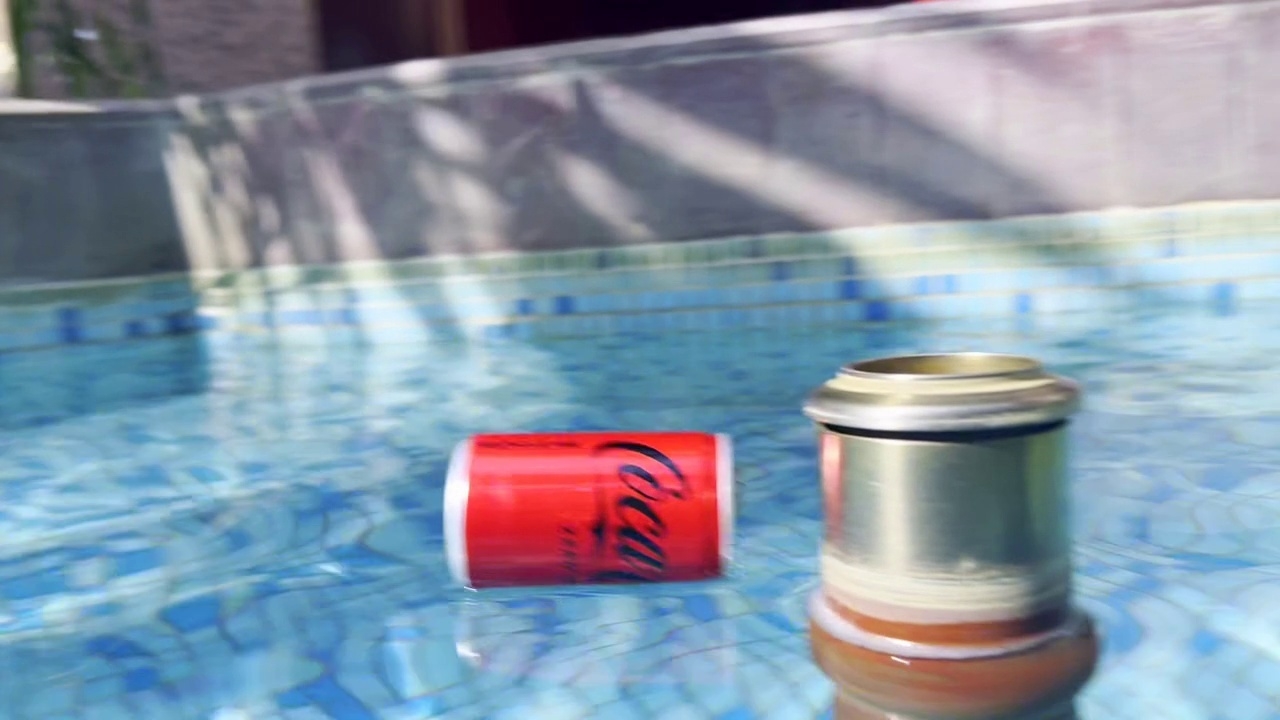debris: (423, 410, 751, 590)
